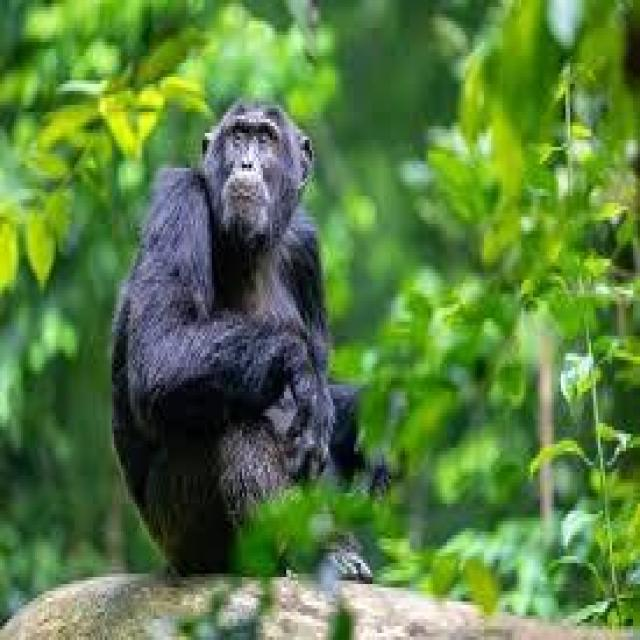Chimpanzee: (102, 51, 389, 582)
